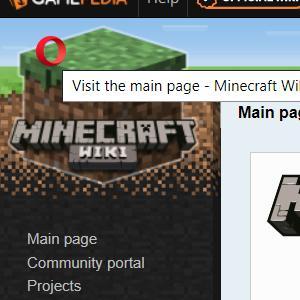opera: (36, 35, 67, 67)
